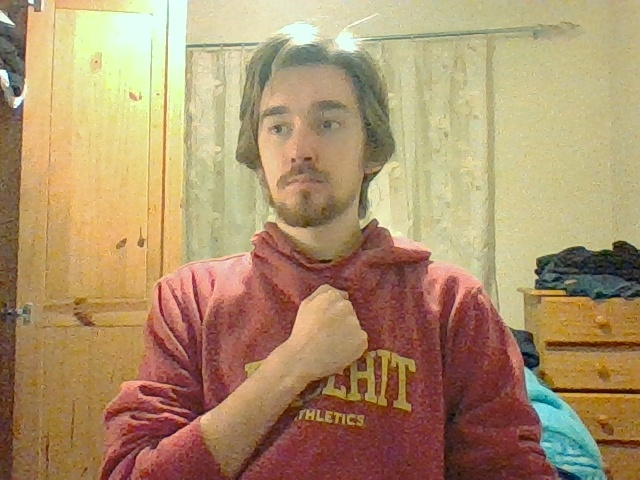my: (295, 283, 367, 379)
